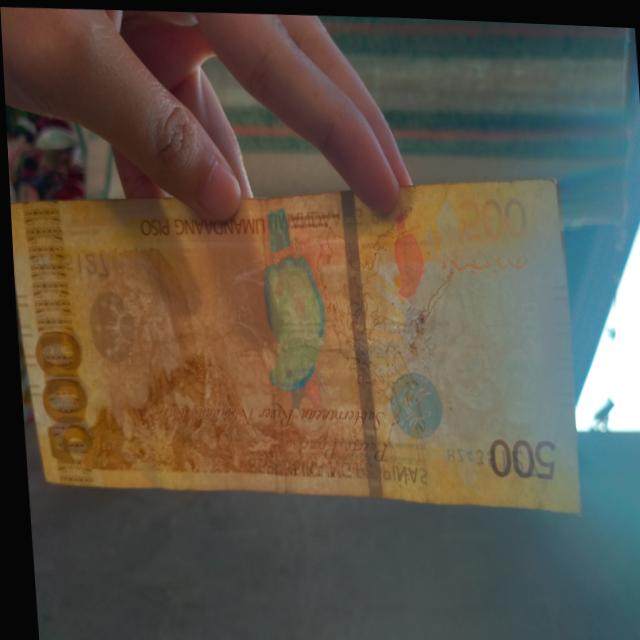security_thread: (338, 190, 375, 495)
see_through_mark: (428, 231, 531, 281)
watermark: (420, 258, 549, 431)
